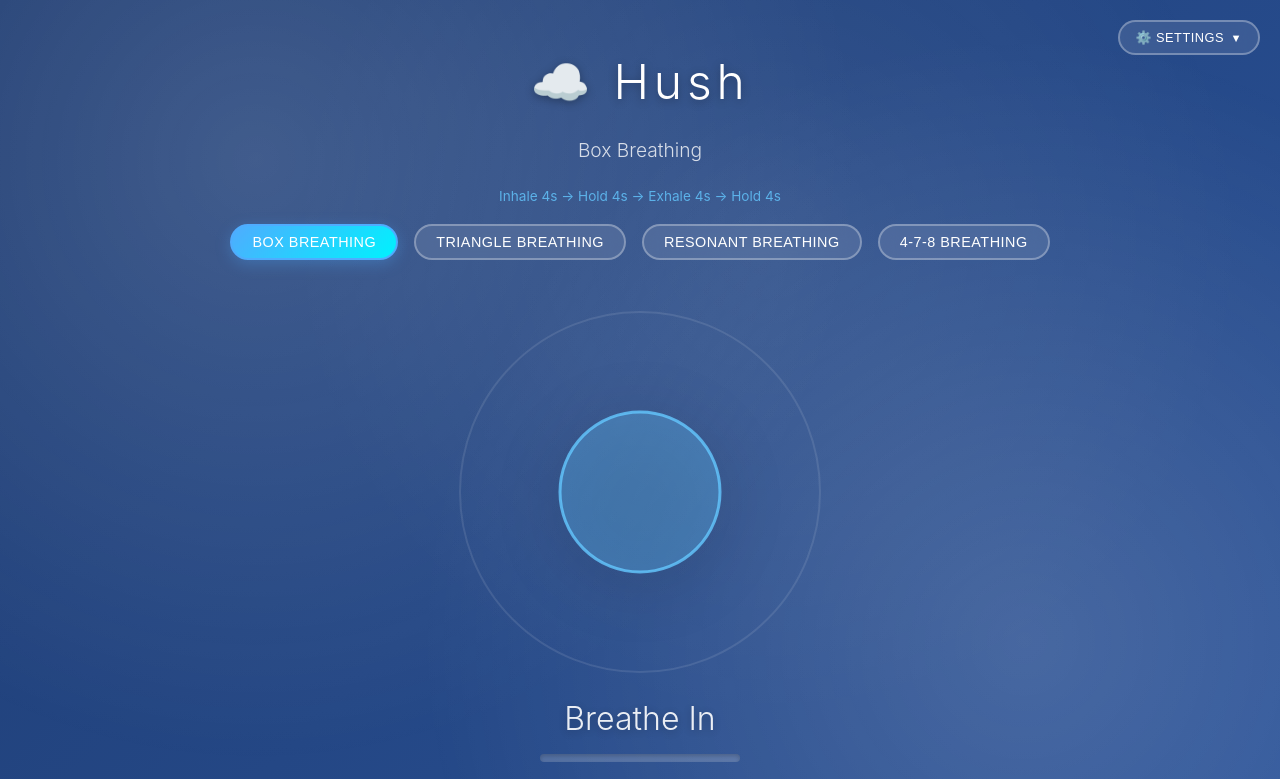
Test case: Hush Breathing App - Core Functionality Tests › Timer Functionality › shows timer controls for non-4-7-8 exercises
This screenshot has width=1280, height=779.
Click the button "⚙️ Settings ▼": x=1189, y=38 [1118,20,1260,55]
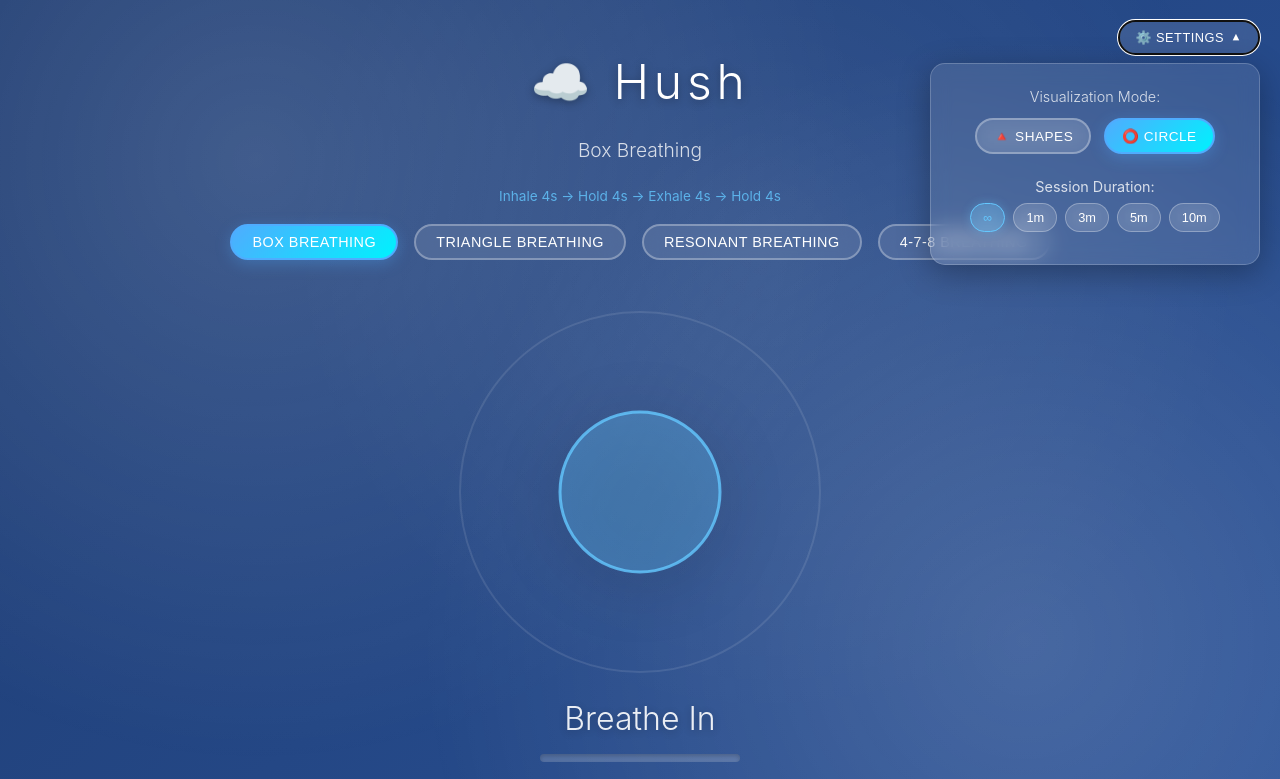
Check: the text "Session Duration:" is shown, box [1035,178,1155,195]
Check: the button "∞" is shown, box [970,203,1005,232]
Check: the button "1m" is shown, box [1013,203,1057,232]
